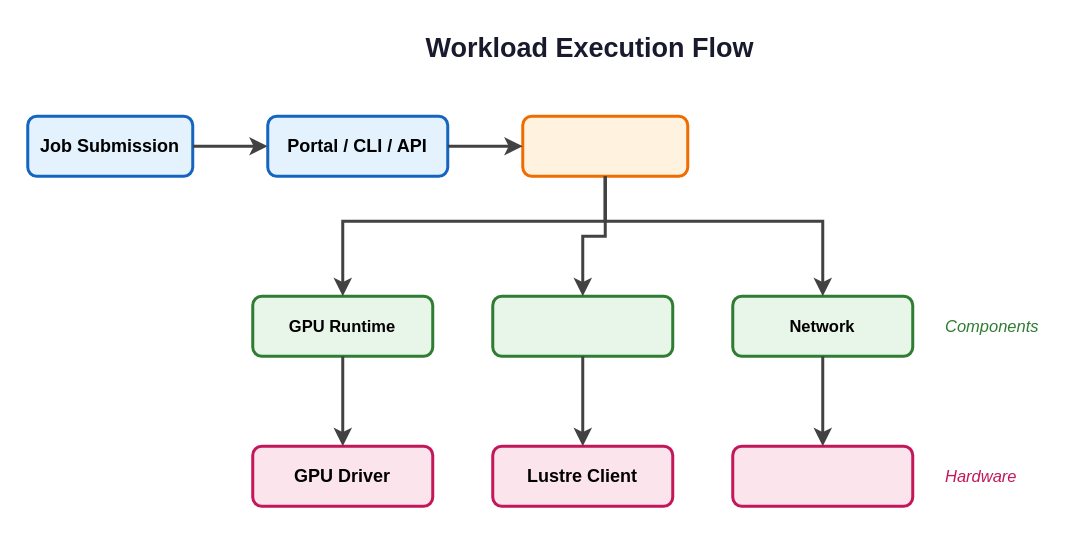
This 1088x533 diagram has some shape labels left out. Here are the shapes that lost their labels. From the top down, the centre of each, then its label:
At pixel 604 145: "Cluster (K8s or Slurm)".
At pixel 582 325: "Storage Mount".
At pixel 822 475: "IB Fabric".
